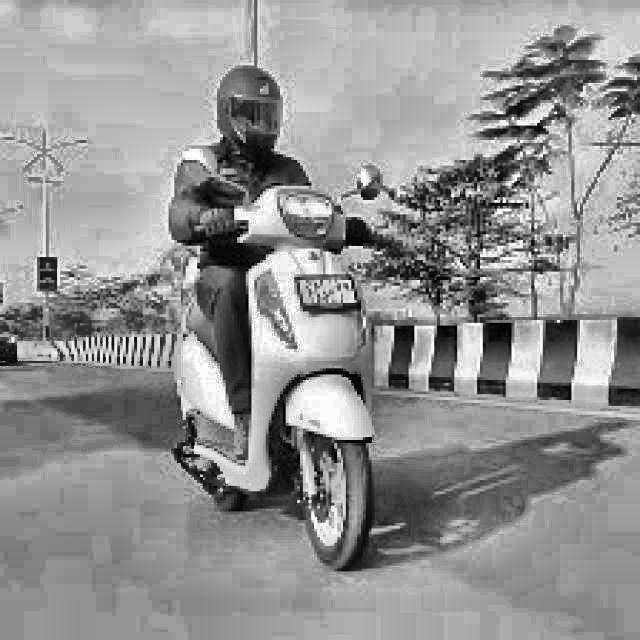motorcycle: (155, 152, 412, 572)
